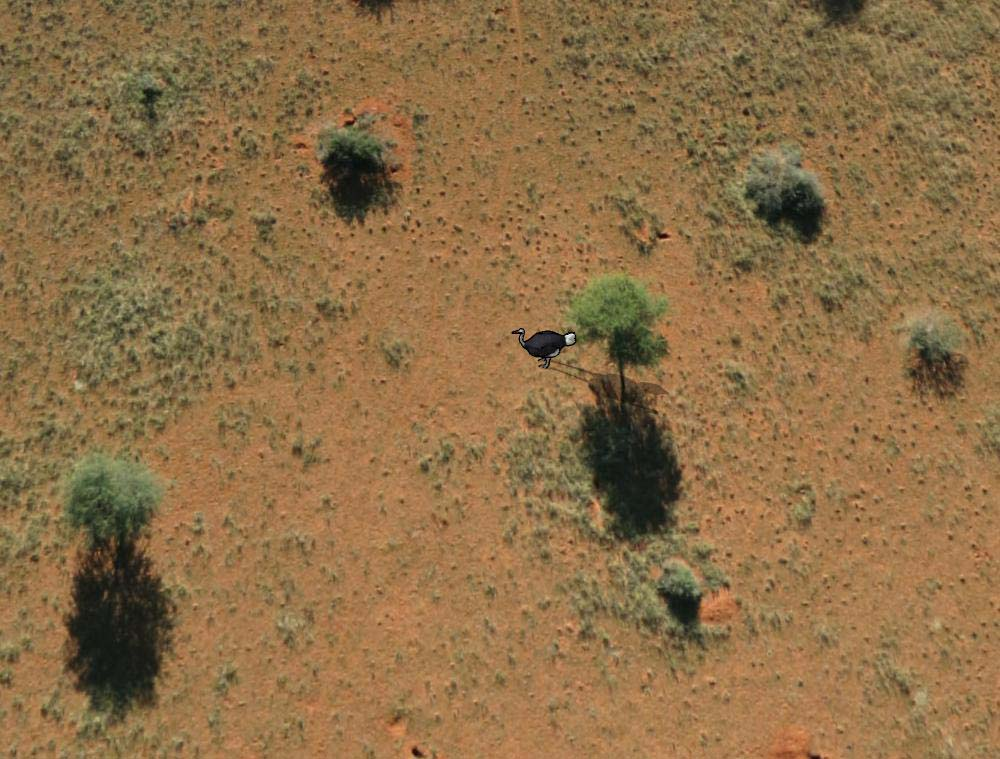springbok: (512, 324, 577, 373)
